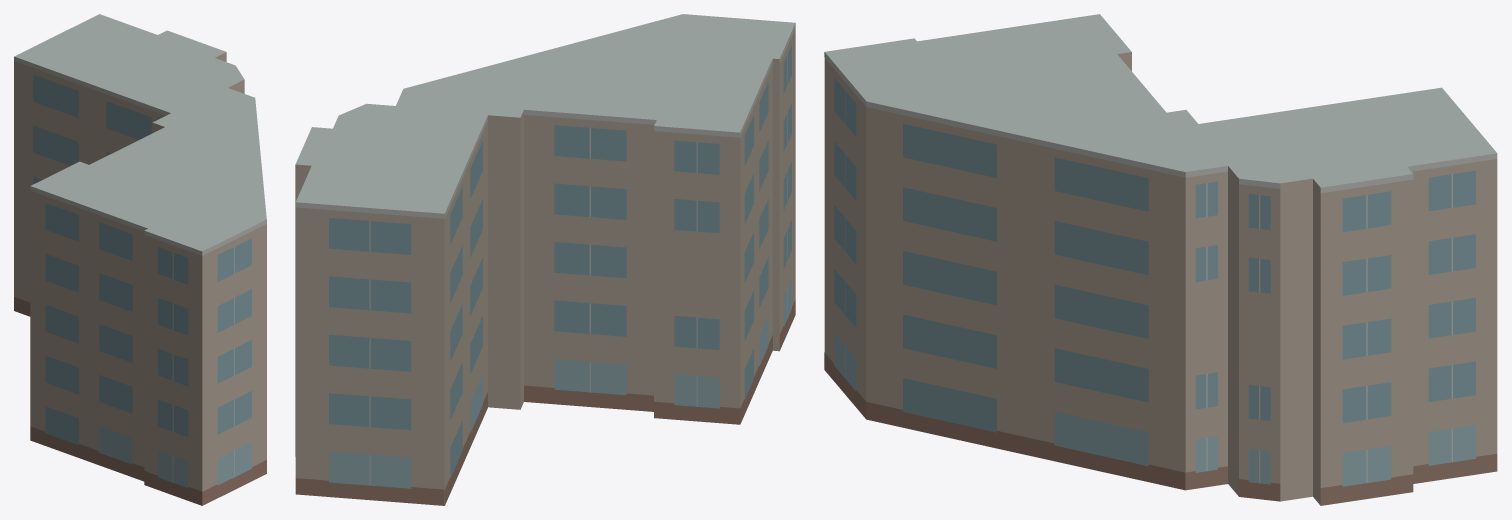
Rendered from survey-upis-32948307.glb.
The picture shows the model from 3 angles, left to right: view 1: azimuth 30°, elevation 25°; view 2: azimuth 150°, elevation 25°; view 3: azimuth 270°, elevation 25°; orthographic projection. The views are drawn at different scales.
Parts seen in each view (by area): view 1: survey-upis-32948307.tmp; view 2: survey-upis-32948307.tmp; view 3: survey-upis-32948307.tmp.
Boxes of the visible parts, x1=… form: survey-upis-32948307.tmp: x1=14, y1=14, x2=266, y2=505; survey-upis-32948307.tmp: x1=295, y1=14, x2=795, y2=505; survey-upis-32948307.tmp: x1=824, y1=14, x2=1497, y2=505.
Bounding box in the file's own units: 16.29 × 13.9 × 26.66.
